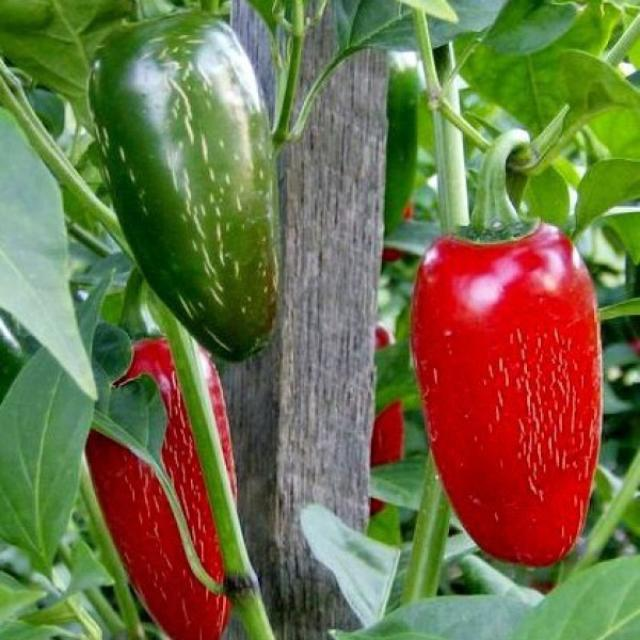aji: (69, 39, 338, 360), (420, 209, 616, 579), (78, 343, 271, 640)
